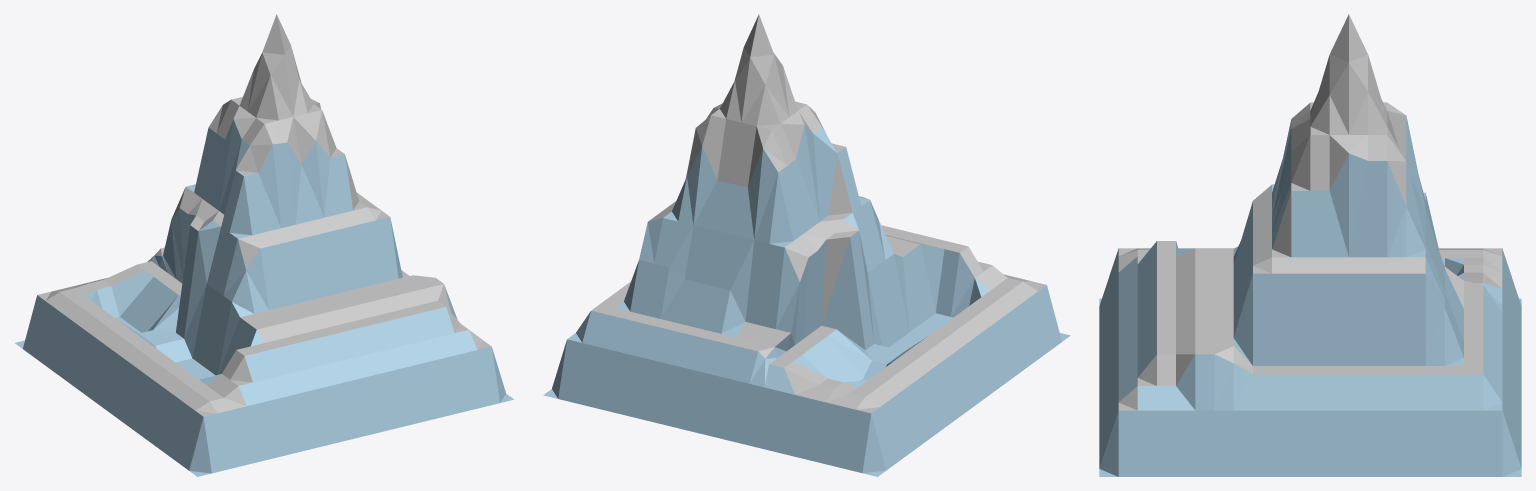
Rendered from main_mountain.dae.
The picture shows the model from 3 angles, left to right: view 1: azimuth 30°, elevation 25°; view 2: azimuth 150°, elevation 25°; view 3: azimuth 270°, elevation 25°; orthographic projection. The views are drawn at different scales.
Parts seen in each view (by area): view 1: Plane; view 2: Plane; view 3: Plane.
Part boxes in pixels (<box>): Plane: <box>15,14,513,476</box>; Plane: <box>543,14,1070,476</box>; Plane: <box>1099,14,1521,476</box>.
Bounding box in the file's own units: 2 × 2 × 2.04.
